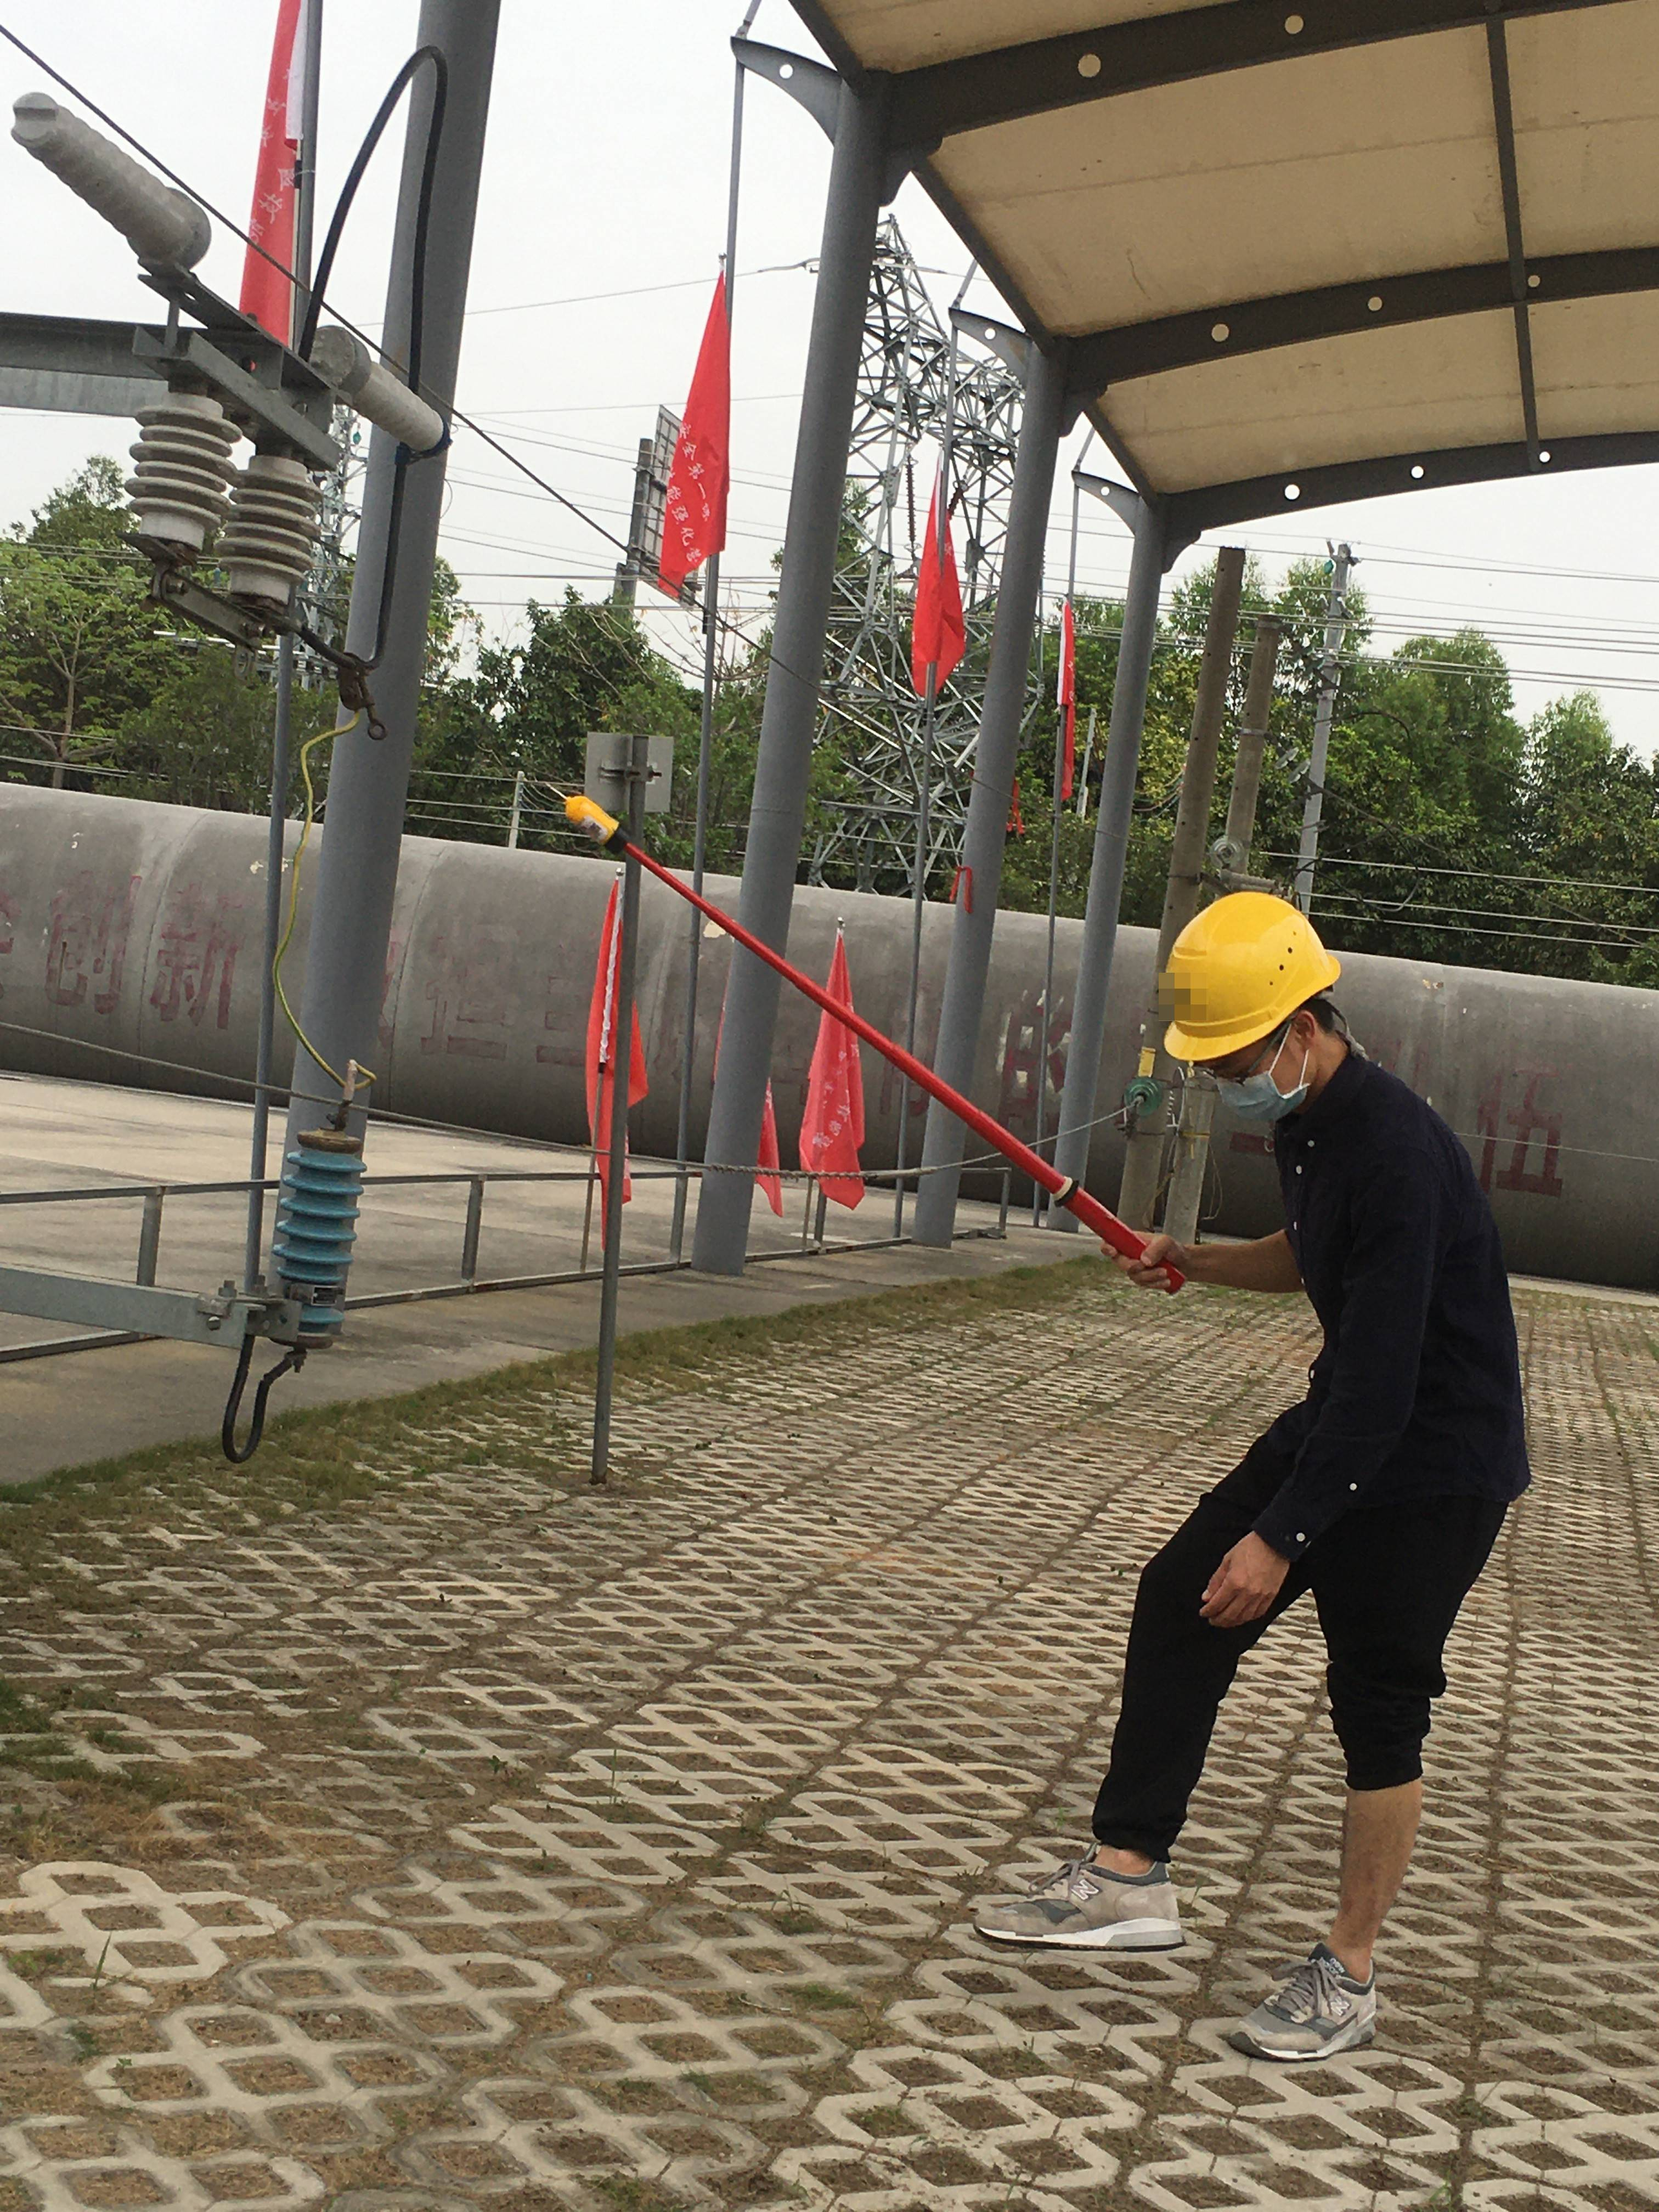downcloth: (1096, 1397, 1500, 1831)
upcloth: (1248, 1068, 1554, 1536)
wrongbottom: (1309, 1651, 1450, 1961)
